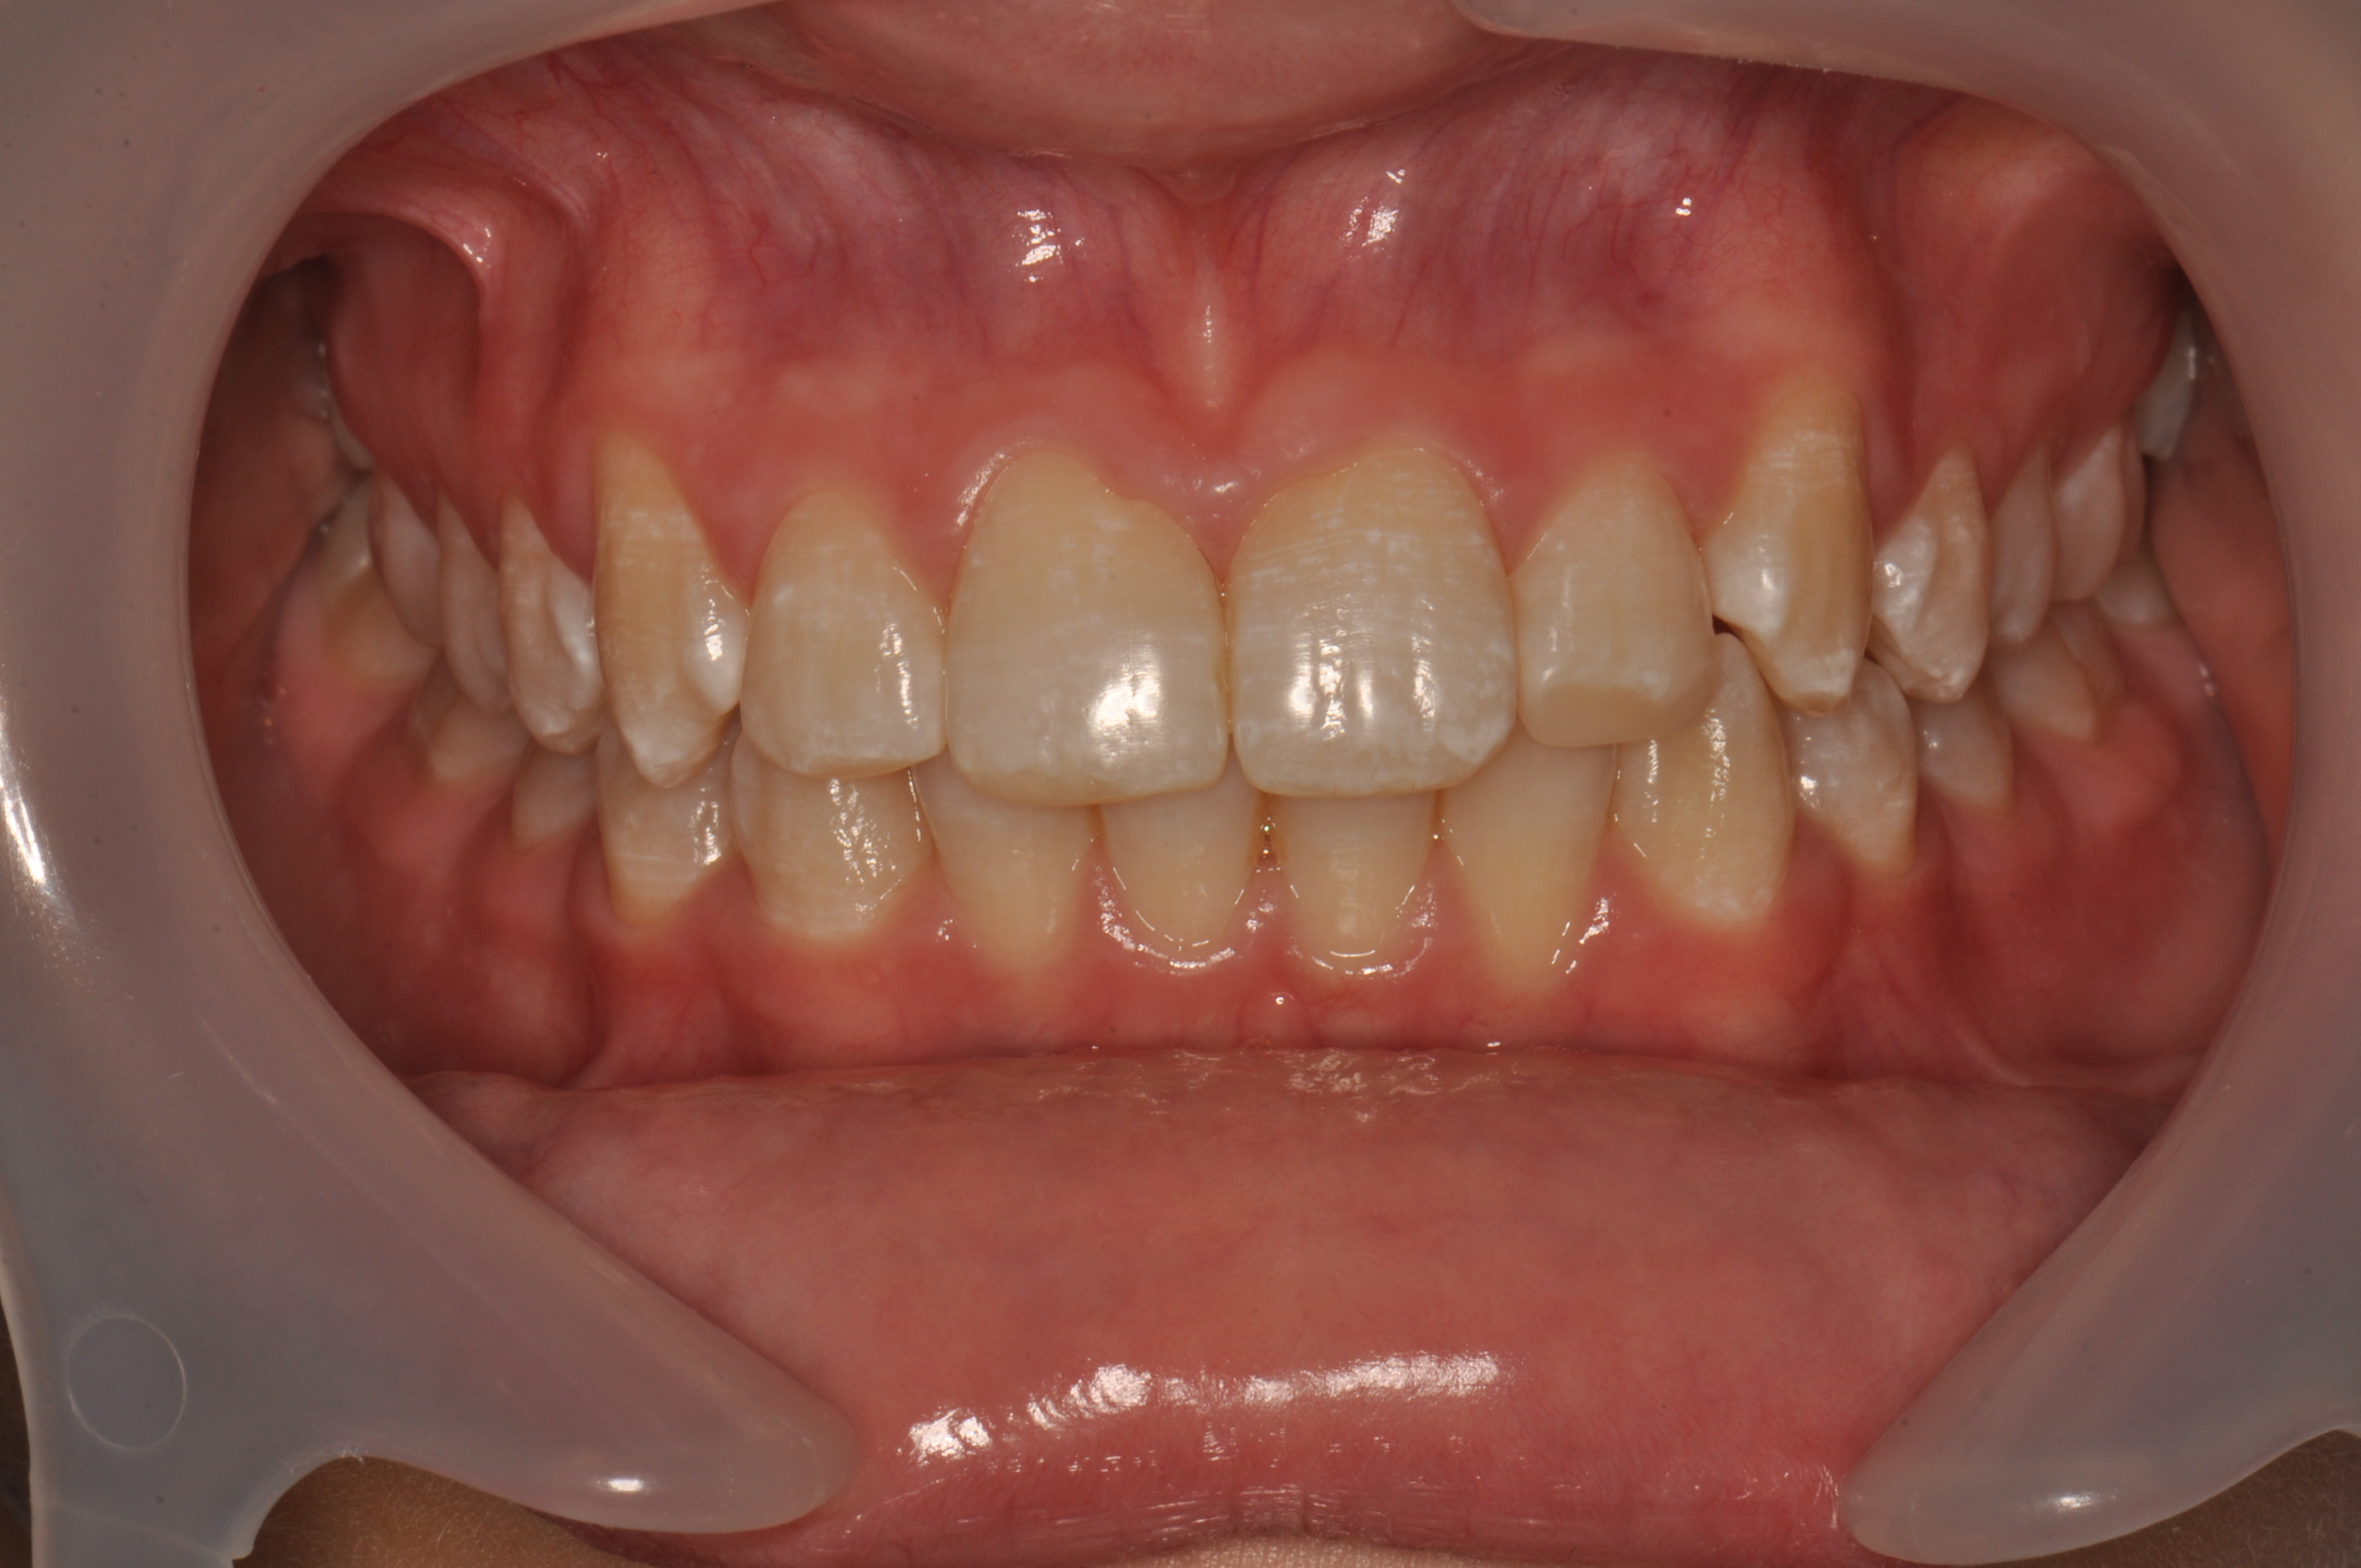UL1BC_decay: (1874, 460, 1986, 702)
UL1M_decay: (2060, 434, 2125, 604)
UL2BC_decay: (1990, 451, 2056, 649)
ULCI_decay: (1229, 445, 1514, 793)
ULC_decay: (1710, 402, 1873, 707)
ULLI_decay: (1517, 460, 1713, 746)
UR1BC_decay: (499, 509, 602, 753)
UR1M_decay: (369, 474, 432, 630)
UR2BC_decay: (438, 520, 506, 702)
URCI_decay: (947, 455, 1227, 802)
URC_decay: (593, 429, 742, 780)
URLI_decay: (744, 502, 949, 772)
